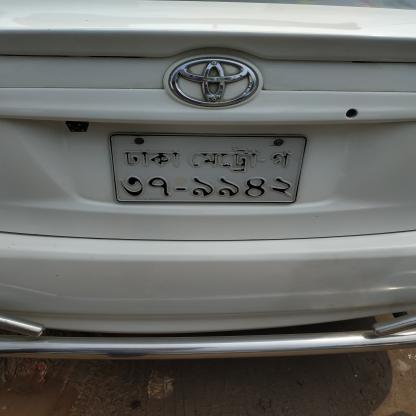license_plate: (80, 113, 350, 230)
